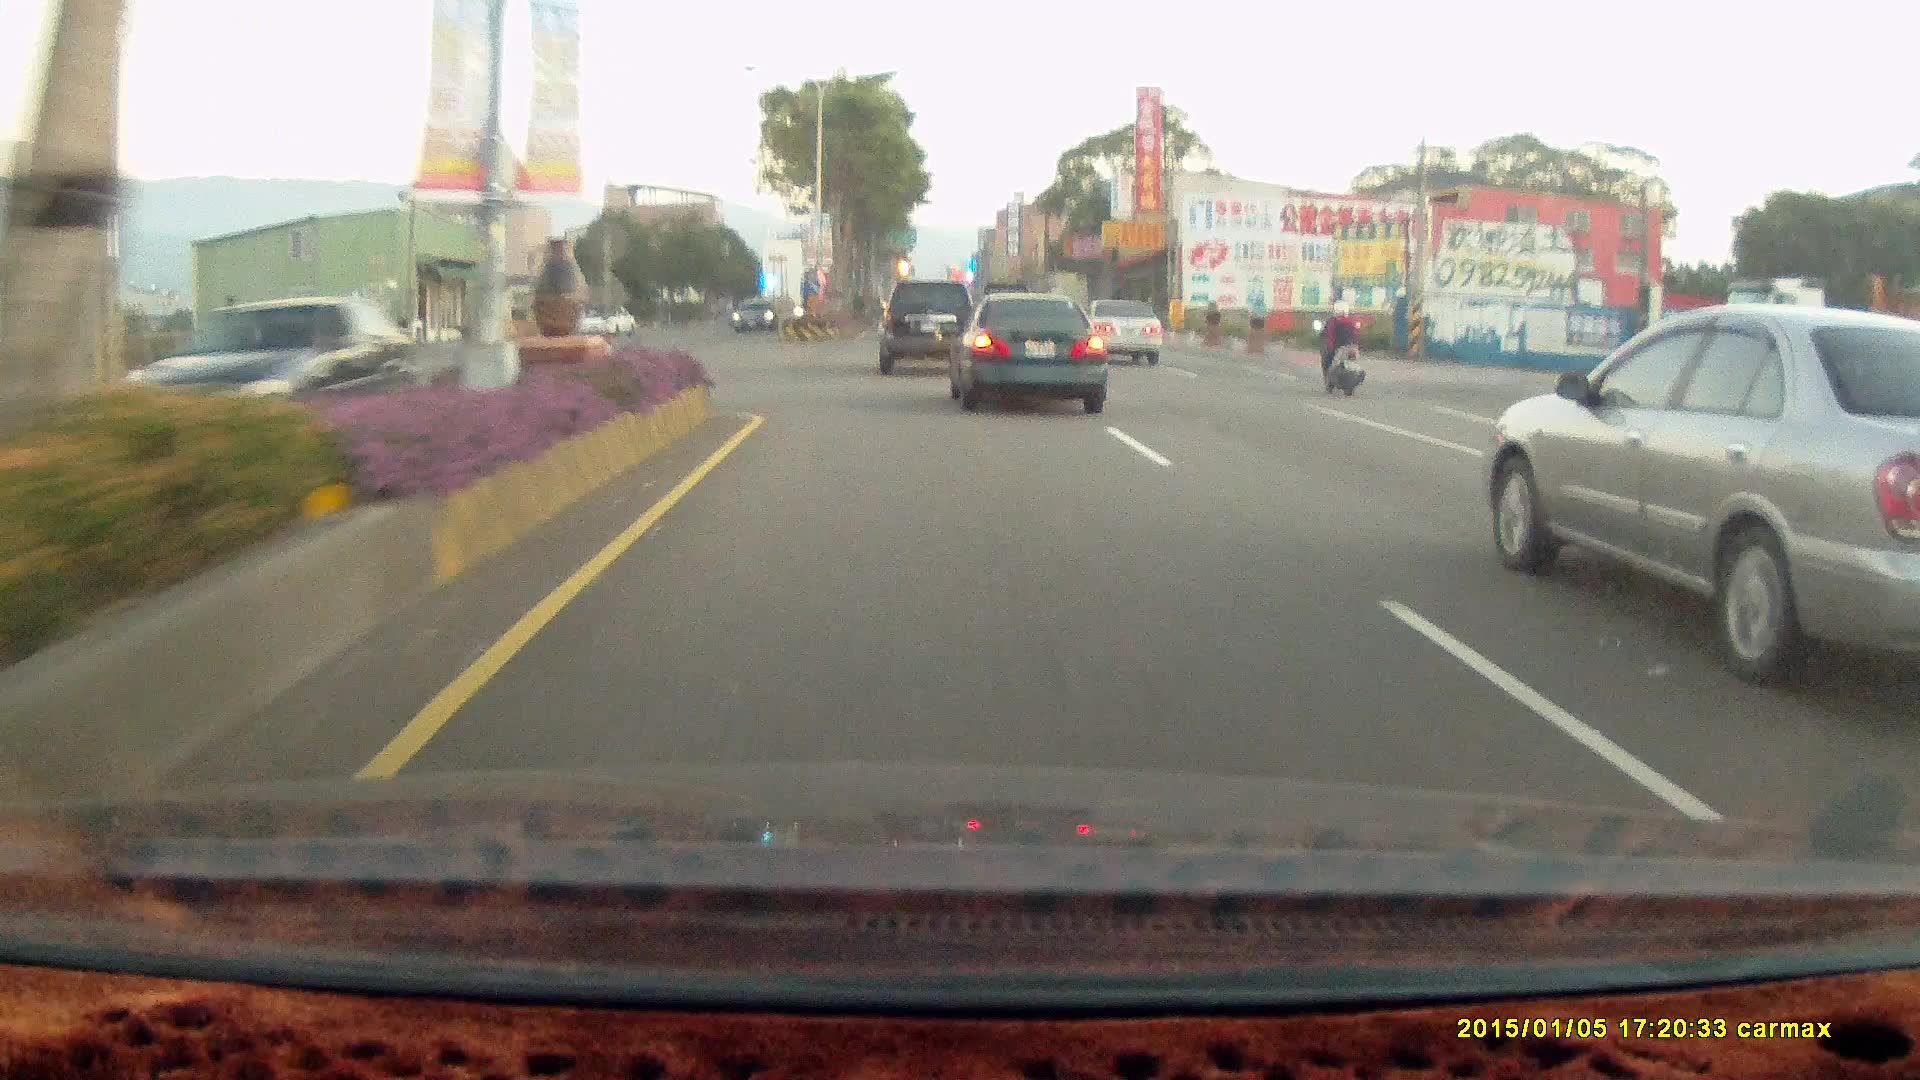rider: (1304, 293, 1374, 405), (1309, 296, 1365, 394)
vehicle: (1484, 303, 1920, 682), (112, 299, 453, 452), (111, 299, 438, 451), (956, 296, 1115, 416), (937, 291, 1099, 410), (880, 280, 983, 376), (876, 279, 975, 375), (1078, 297, 1165, 366), (1078, 296, 1163, 365), (730, 297, 781, 336), (577, 305, 637, 338), (730, 297, 777, 331)
